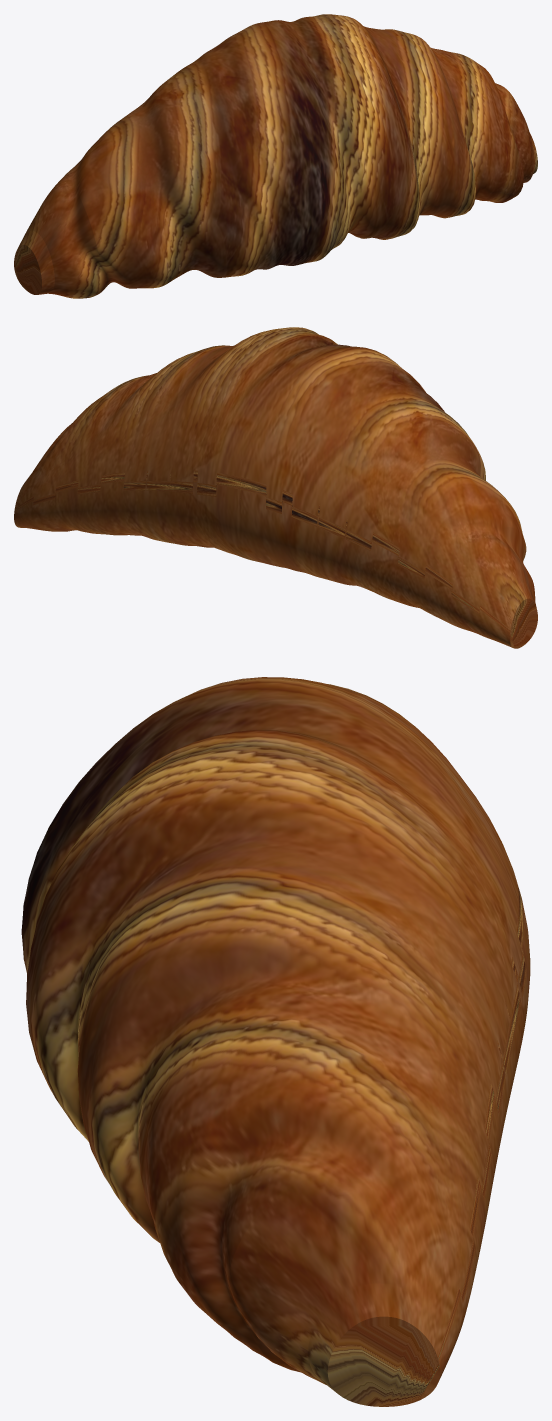
File: croissant_split.glb
3 renders of one model, top to bottom at view 1: azimuth 30°, elevation 25°; view 2: azimuth 150°, elevation 25°; view 3: azimuth 270°, elevation 25°, orthographic. The views are drawn at different scales.
Parts seen in each view (by area): view 1: croissant_v6_core, croissant_v6_core.001; view 2: croissant_v6_core, croissant_v6_core.001; view 3: croissant_v6_core.001, croissant_v6_core.
Part boxes in pixels (bbox=[...]): croissant_v6_core: bbox=[14, 20, 355, 298]; croissant_v6_core.001: bbox=[278, 14, 537, 245]; croissant_v6_core: bbox=[244, 341, 537, 648]; croissant_v6_core.001: bbox=[14, 327, 337, 563]; croissant_v6_core.001: bbox=[26, 726, 530, 1406]; croissant_v6_core: bbox=[21, 677, 530, 973].
Bounding box in the file's own units: 22.4 × 9.78 × 9.96.
Materials: 2 (2 with a texture image).
